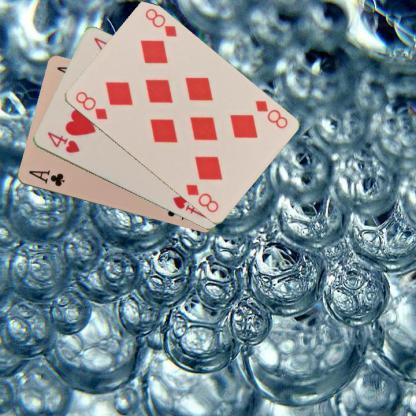4h: (44, 129, 81, 155)
8d: (72, 88, 109, 122), (252, 98, 289, 130)
Ac: (25, 167, 66, 188)
